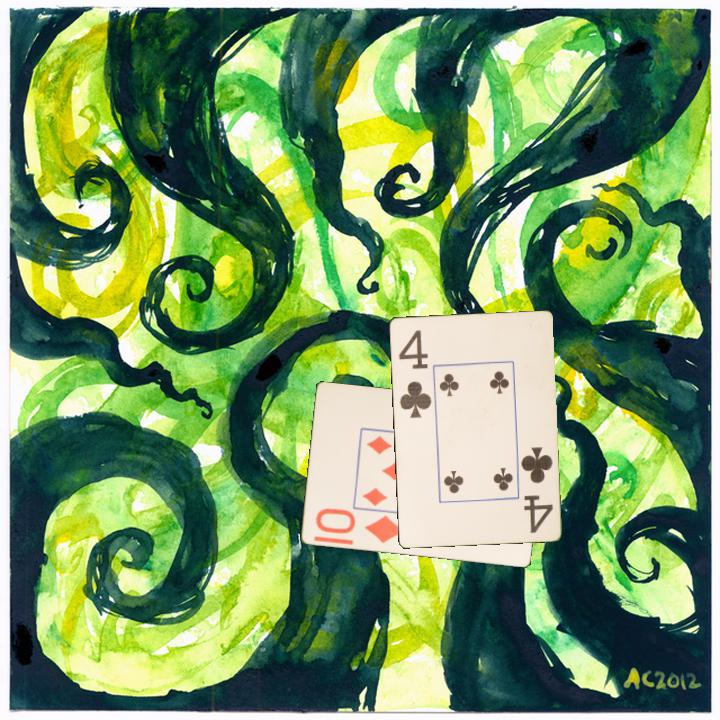10d: (312, 505, 407, 547)
4c: (395, 326, 434, 420), (517, 443, 556, 535)
